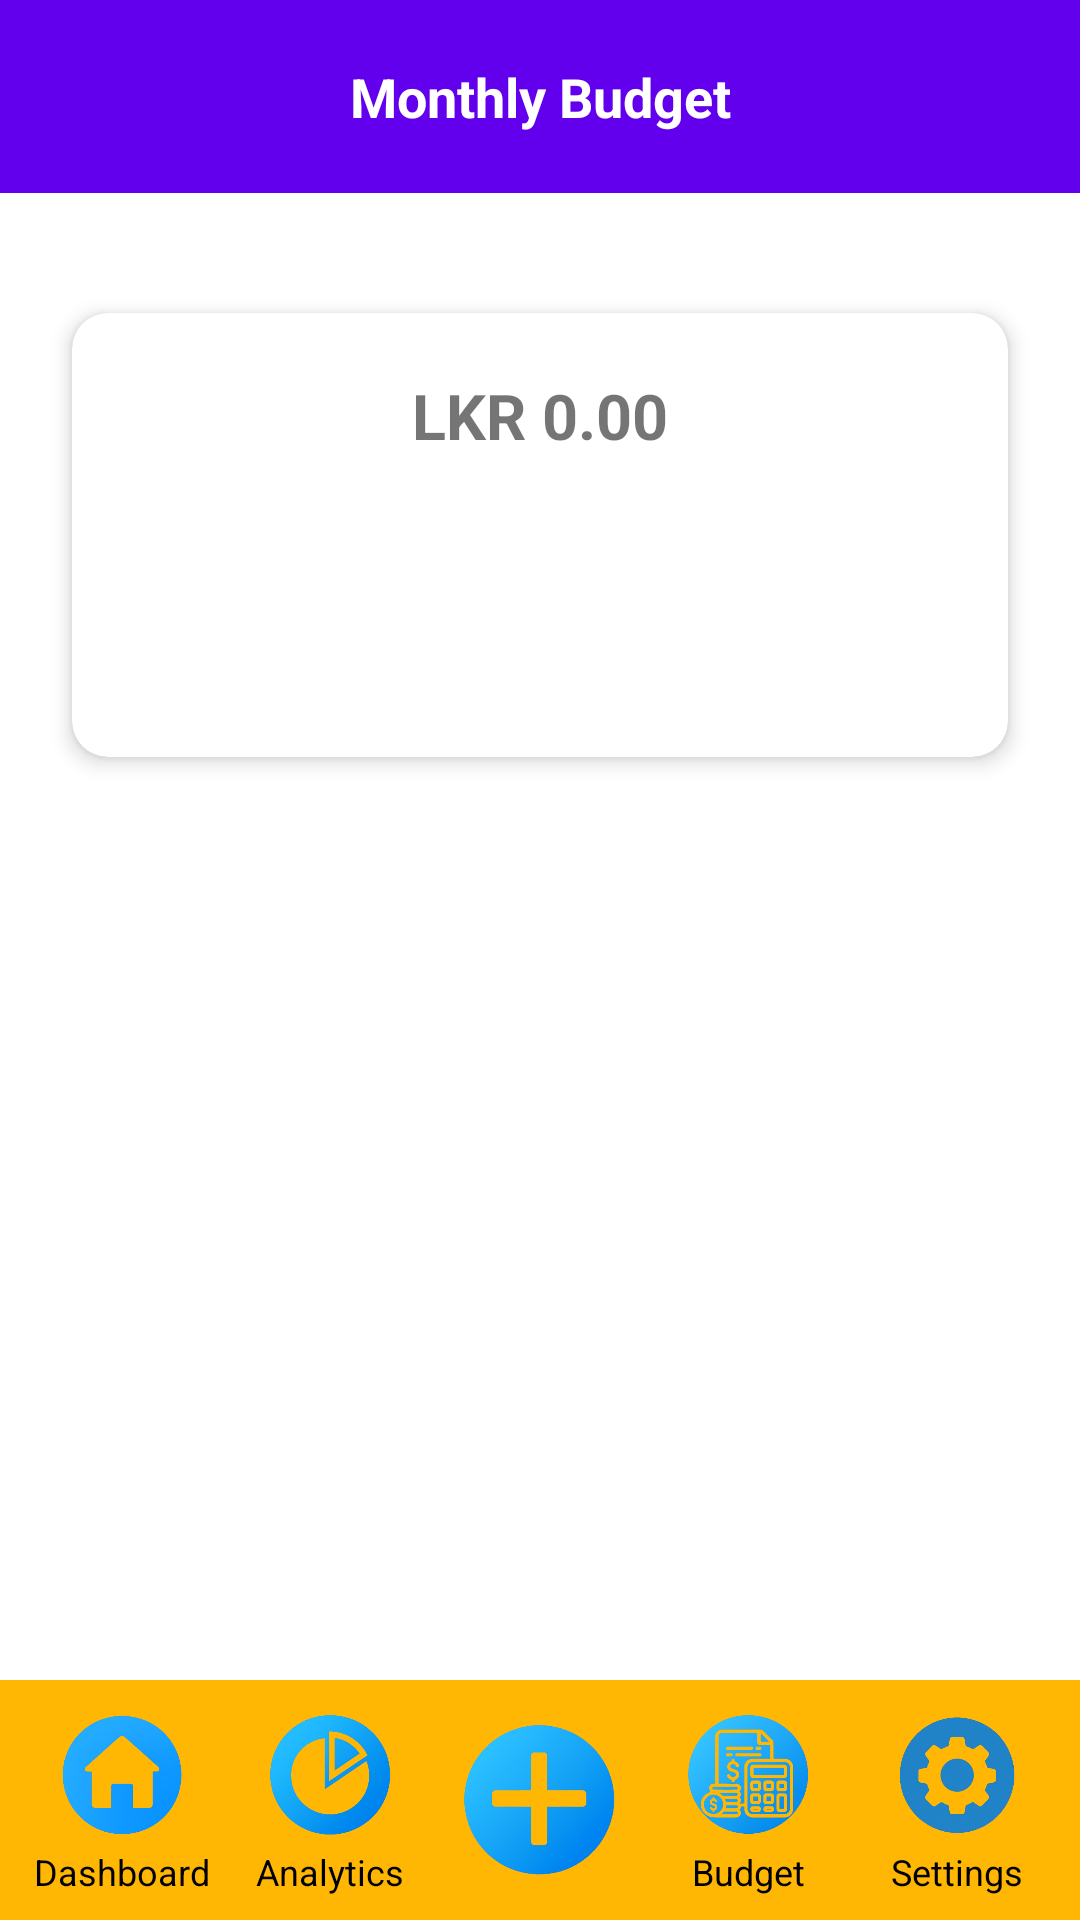

Named icons in this screenshot (1080 x 1920) and their bounding boxes, BBox(x1, y1, x2, y2):
Add: BBox(464, 1725, 615, 1875)
Home: BBox(62, 1716, 182, 1834)
